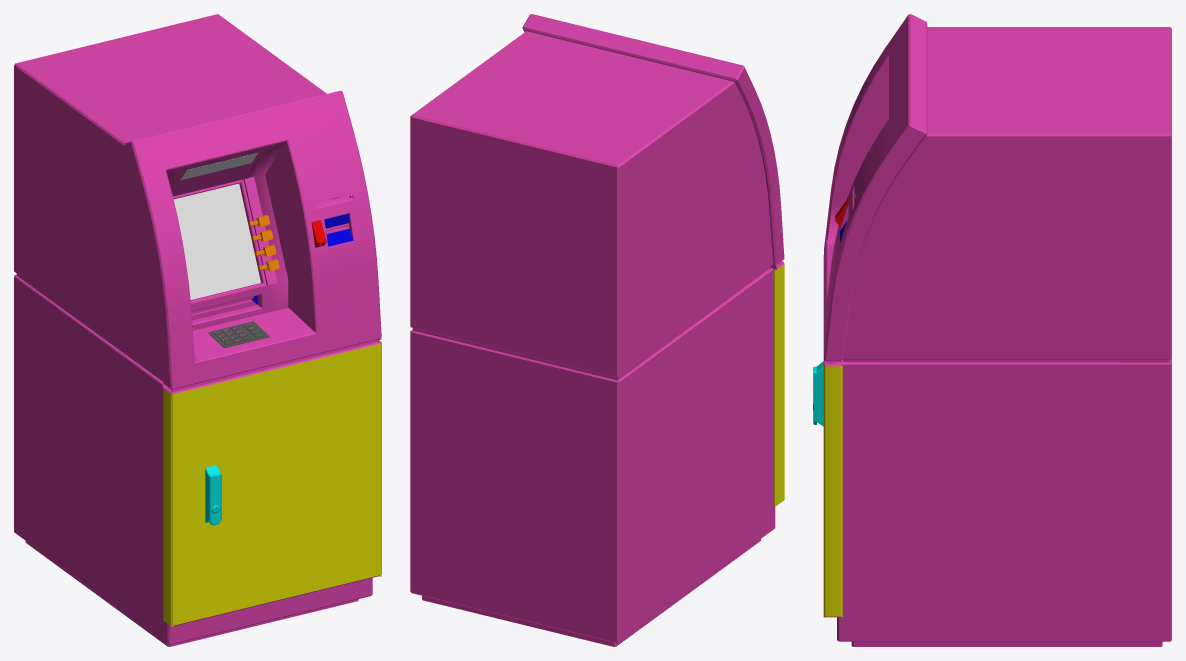
The model's file is ATM.fbx.
The picture shows the model from 3 angles, left to right: view 1: azimuth 30°, elevation 25°; view 2: azimuth 150°, elevation 25°; view 3: azimuth 270°, elevation 25°; orthographic projection. The views are drawn at different scales.
Parts seen in each view (by area): view 1: polySurface101, Rectangle03, Object02, polySurface102, Box24; view 2: polySurface101; view 3: polySurface101.
Part boxes in pixels (<box>): polySurface101: <box>14,14,381,646</box>; Rectangle03: <box>208,321,269,347</box>; Object02: <box>248,215,279,271</box>; polySurface102: <box>208,472,221,525</box>; Box24: <box>180,153,257,180</box>; polySurface101: <box>410,14,784,646</box>; polySurface101: <box>823,14,1171,646</box>.
Bounding box in the file's own units: 72 × 159 × 97.95.
